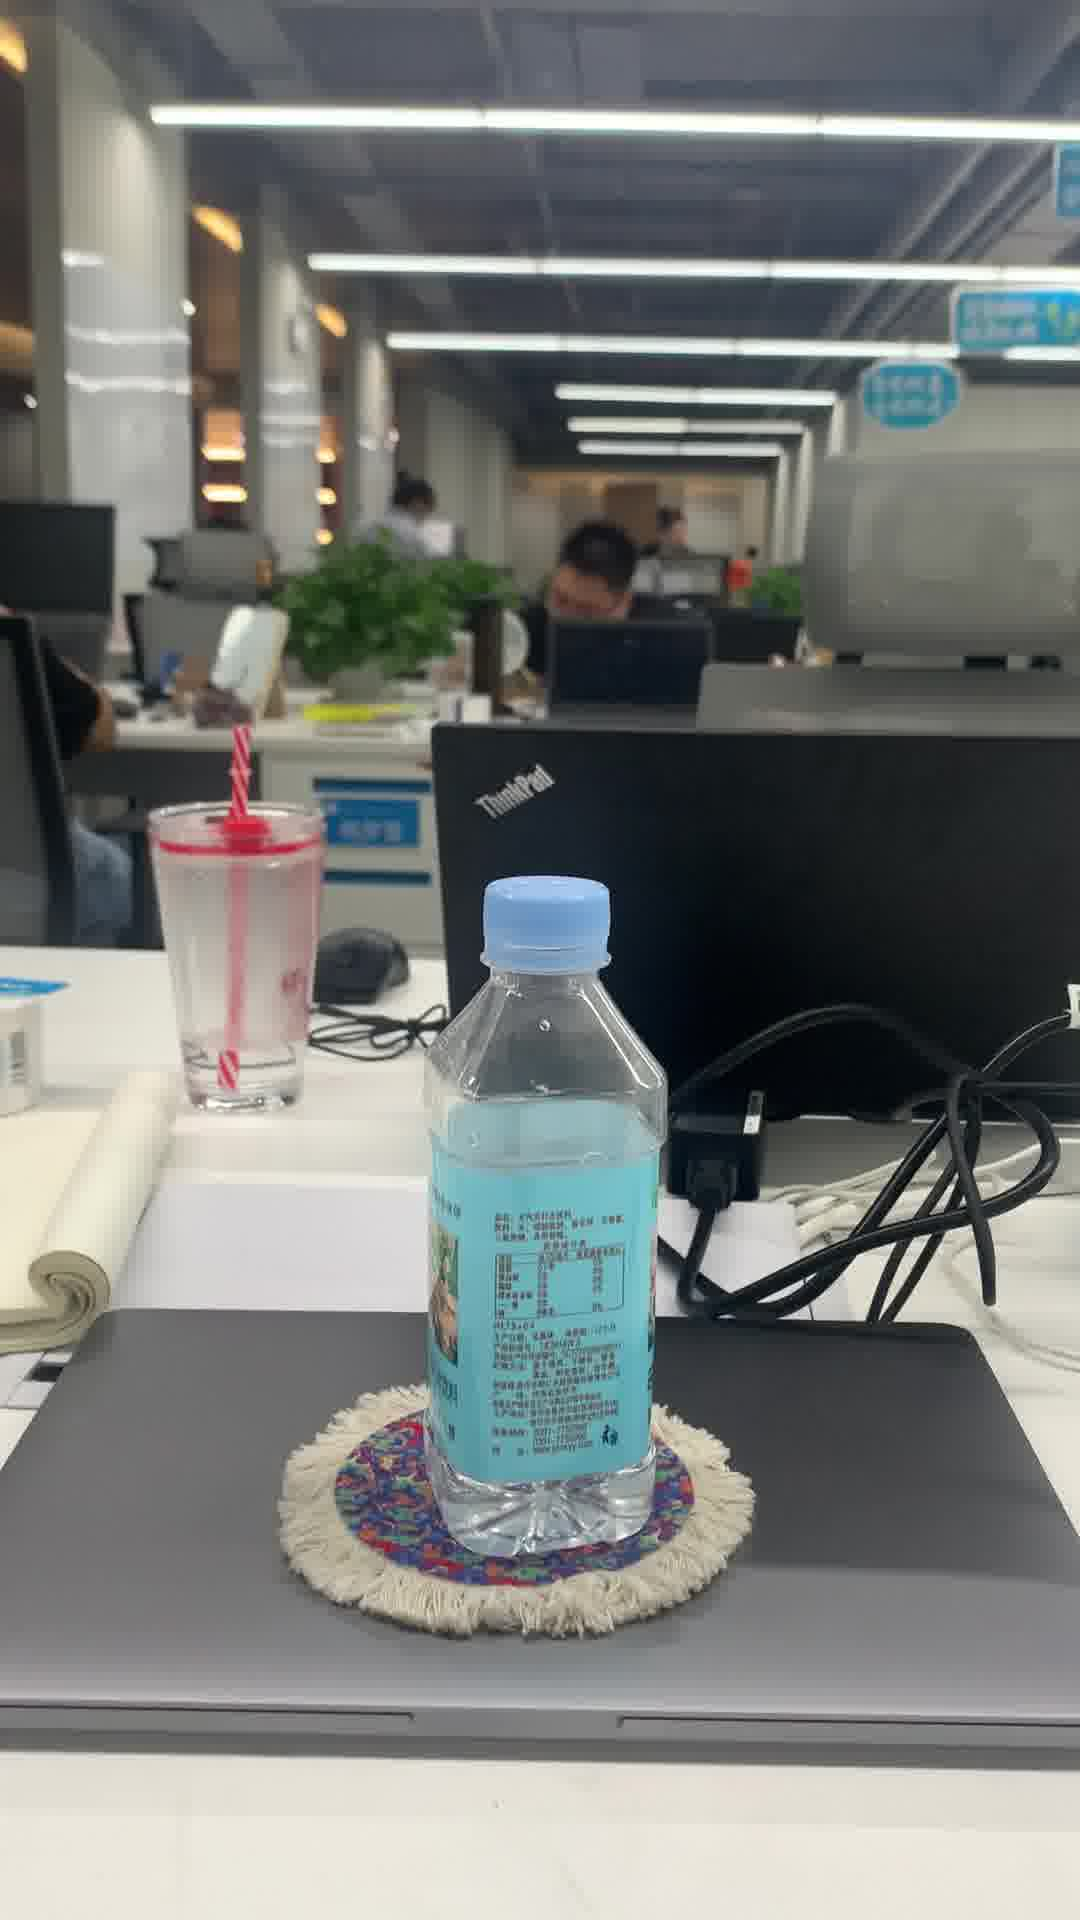水瓶: (410, 860, 676, 1559)
